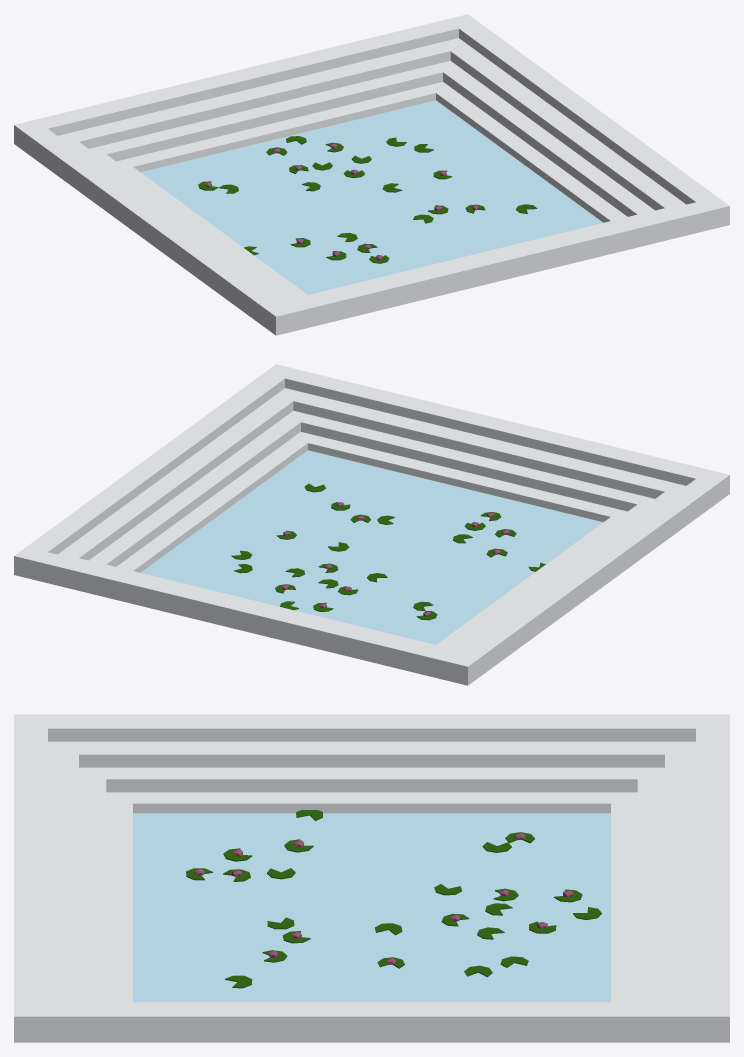
File: Fountain_002.fbx
3 views of the same model, one above another, from view 1: azimuth 30°, elevation 25°; view 2: azimuth 150°, elevation 25°; view 3: azimuth 270°, elevation 25° (orthographic). The views are drawn at different scales.
Parts seen in each view (by area): view 1: Fountain.002; view 2: Fountain.002; view 3: Fountain.002.
Part boxes in pixels (x1=…): Fountain.002: x1=14, y1=14, x2=729, y2=335; Fountain.002: x1=14, y1=364, x2=729, y2=685; Fountain.002: x1=14, y1=714, x2=729, y2=1042.
Bounding box in the file's own units: 2200 × 165 × 2200.
